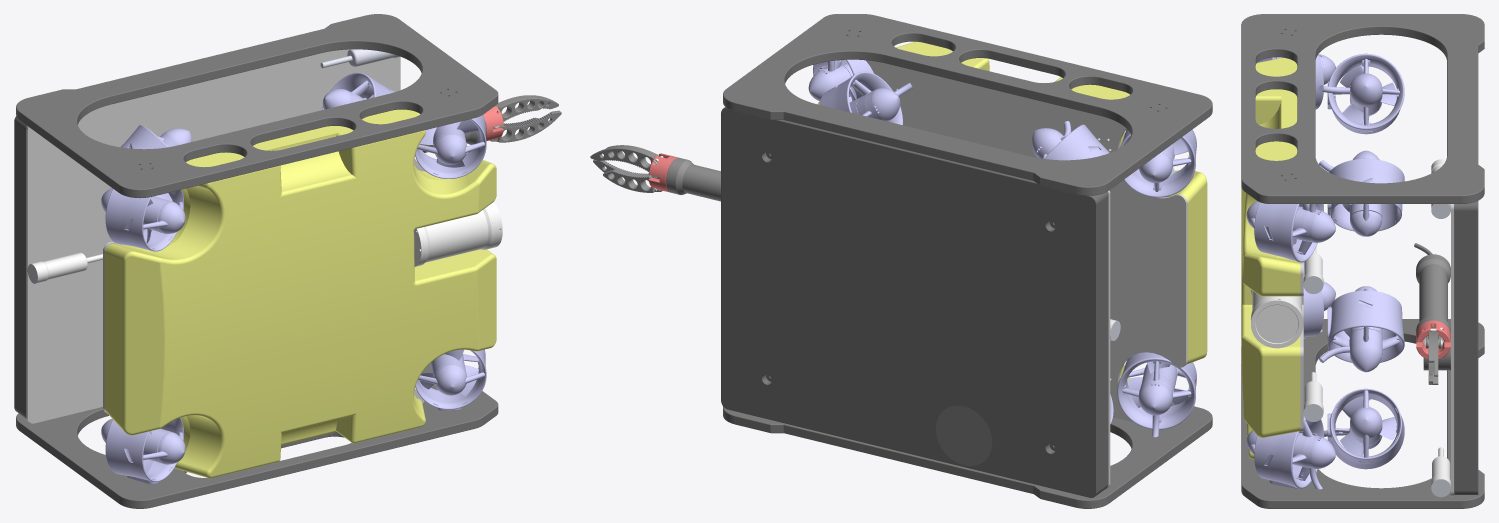
Rendered from robot.glb.
3 views of the same model, side by side, from view 1: azimuth 30°, elevation 25°; view 2: azimuth 150°, elevation 25°; view 3: azimuth 270°, elevation 25° (orthographic). The views are drawn at different scales.
Parts seen in each view (by area): view 1: （4）300m浮力块-1, （2）下支撑板，碳纤维4mm-1, （1）侧板，12mm-1, 镜向（1）侧板，12mm-1, （5）Z80 推进器外观-2, 镜向（5）Z80 推进器外观-4, （4.2）底部浮力块-1, （10） 摄像机模型(镜向默认)-1, 镜向镜向（5）Z80 推进器外观-2, 镜向（5）Z80 推进器外观-2, （6）单自由度机械手-1, 镜向（5）Z80 推进器外观-1 (+3 smaller); view 2: （4.2）底部浮力块-1, （1）侧板，12mm-1, （1）上支撑板，碳纤维4mm-1, 镜向（1）侧板，12mm-1, （4）300m浮力块-1, 镜向（5）Z80 推进器外观-4, （6）单自由度机械手-1, 镜向（5）Z80 推进器外观-1, （5）Z80 推进器外观-2, （8.1）高度计-1, （5）Z80 推进器外观-1, 镜向（5）Z80 推进器外观-2 (+1 smaller); view 3: （1）侧板，12mm-1, （4）300m浮力块-1, 镜向（1）侧板，12mm-1, （4.2）底部浮力块-1, 镜向（5）Z80 推进器外观-3, （5）Z80 推进器外观-1, 镜向镜向（5）Z80 推进器外观-1, 镜向镜向（5）Z80 推进器外观-2, 镜向（5）Z80 推进器外观-2, （6）单自由度机械手-1, 镜向（5）Z80 推进器外观-1, （10） 摄像机模型(镜向默认)-1 (+7 smaller).
Boxes of the visible parts, box(x1,y1,x2,y2) form: （4）300m浮力块-1: box(104, 109, 496, 478); （2）下支撑板，碳纤维4mm-1: box(26, 49, 400, 423); （1）侧板，12mm-1: box(16, 14, 498, 198); 镜向（1）侧板，12mm-1: box(16, 364, 498, 508); （5）Z80 推进器外观-2: box(101, 188, 185, 251); 镜向（5）Z80 推进器外观-4: box(101, 417, 185, 484); （4.2）底部浮力块-1: box(14, 116, 26, 418); （10） 摄像机模型(镜向默认)-1: box(414, 202, 502, 266); 镜向镜向（5）Z80 推进器外观-2: box(415, 349, 486, 410); 镜向（5）Z80 推进器外观-2: box(415, 115, 486, 178); （6）单自由度机械手-1: box(419, 95, 561, 152); 镜向（5）Z80 推进器外观-1: box(322, 72, 394, 109); （4.2）底部浮力块-1: box(721, 107, 1108, 497); （1）侧板，12mm-1: box(723, 14, 1212, 195); （1）上支撑板，碳纤维4mm-1: box(866, 60, 1187, 421); 镜向（1）侧板，12mm-1: box(723, 401, 1212, 508); （4）300m浮力块-1: box(817, 41, 1207, 384); 镜向（5）Z80 推进器外观-4: box(1117, 352, 1196, 437); （6）单自由度机械手-1: box(590, 145, 720, 201); 镜向（5）Z80 推进器外观-1: box(819, 71, 912, 124); （5）Z80 推进器外观-2: box(1119, 129, 1196, 197); （8.1）高度计-1: box(935, 405, 992, 465); （5）Z80 推进器外观-1: box(1032, 121, 1109, 160); 镜向（5）Z80 推进器外观-2: box(808, 59, 874, 102); （1）侧板，12mm-1: box(1241, 14, 1484, 203); （4）300m浮力块-1: box(1241, 57, 1300, 459); 镜向（1）侧板，12mm-1: box(1241, 319, 1484, 508); （4.2）底部浮力块-1: box(1454, 201, 1478, 494); 镜向（5）Z80 推进器外观-3: box(1319, 286, 1404, 372); （5）Z80 推进器外观-1: box(1319, 53, 1404, 134); 镜向镜向（5）Z80 推进器外观-1: box(1324, 388, 1404, 469); 镜向镜向（5）Z80 推进器外观-2: box(1246, 415, 1335, 489); 镜向（5）Z80 推进器外观-2: box(1246, 201, 1335, 262); （6）单自由度机械手-1: box(1414, 243, 1450, 384); 镜向（5）Z80 推进器外观-1: box(1319, 150, 1404, 236); （10） 摄像机模型(镜向默认)-1: box(1250, 290, 1303, 348).
Bounding box in the file's own units: 0.748 × 0.434 × 0.305.
